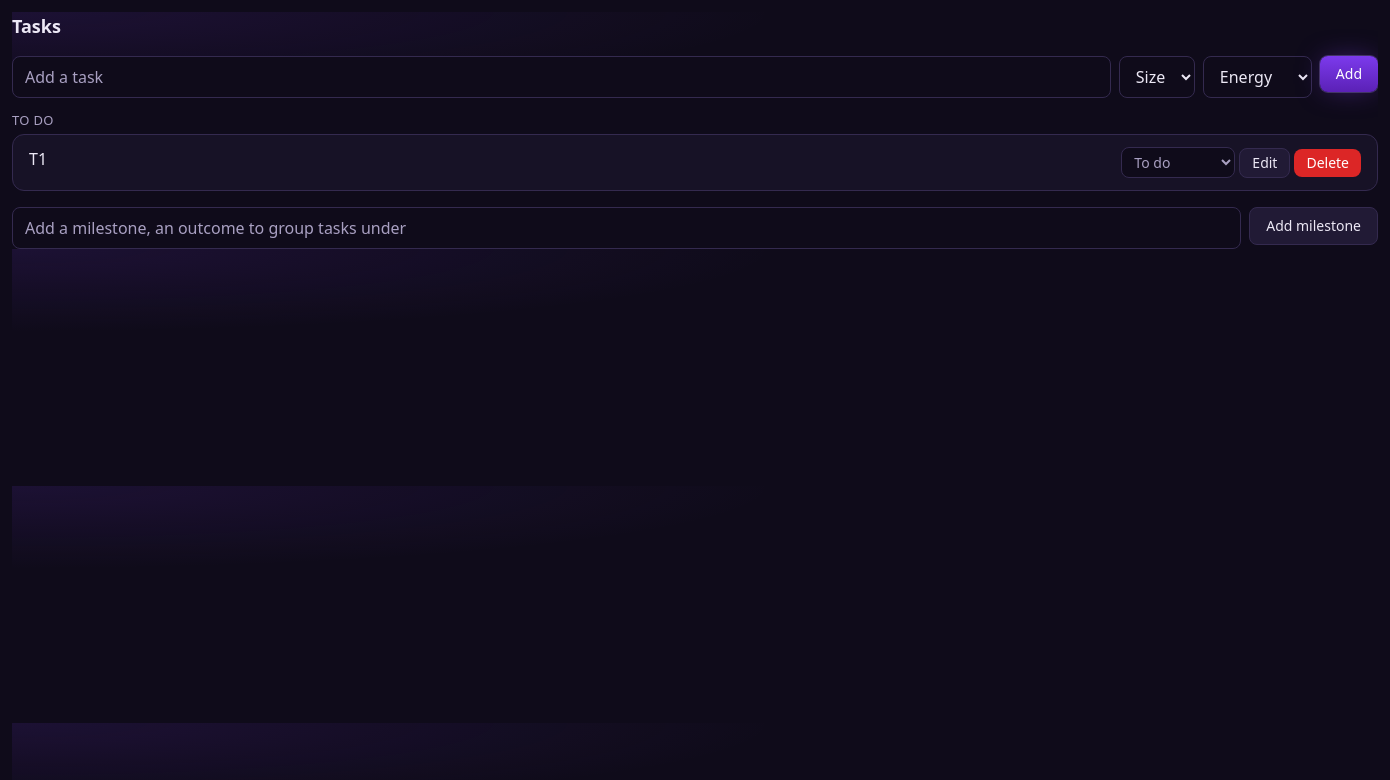
it: ProjectTasks › deletes only after confirming
Click the button "Delete".
click(1328, 162)  # box [1294,148,1361,176]
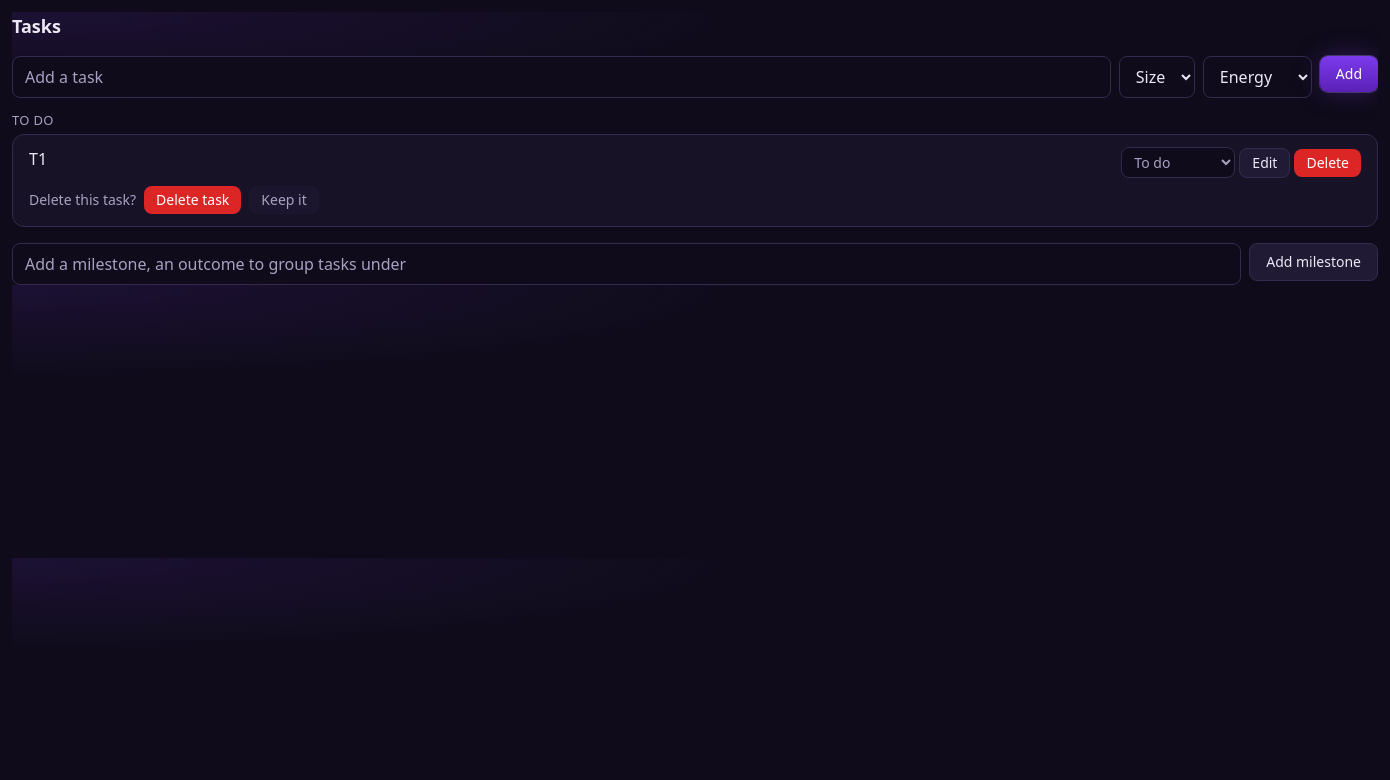
Click the button "Keep it".
click(284, 200)  # box [249,186,319,214]
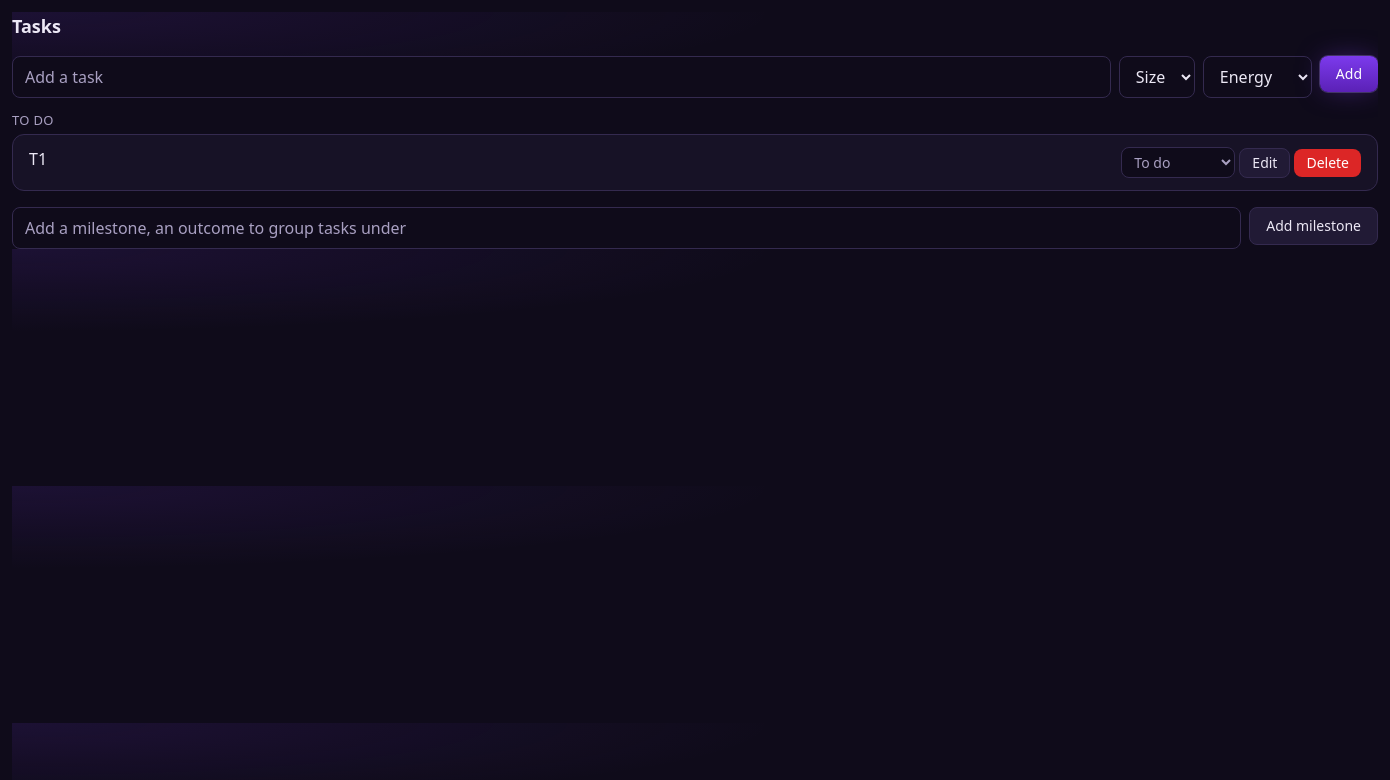
Expected: the text "Delete this task?" is gone
Click the button "Delete".
click(1328, 162)  # box [1294,148,1361,176]
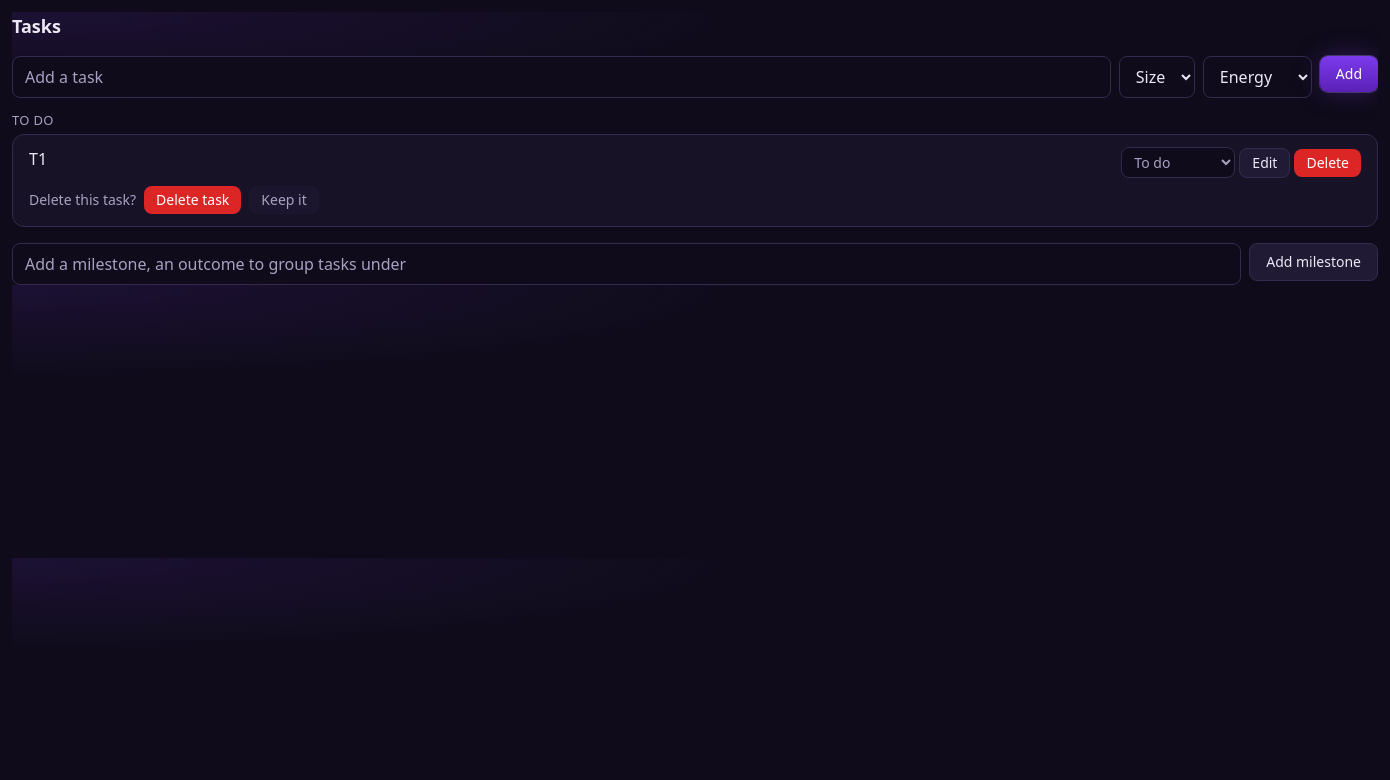
Click the button "Delete task".
click(193, 200)  # box [144,186,241,214]
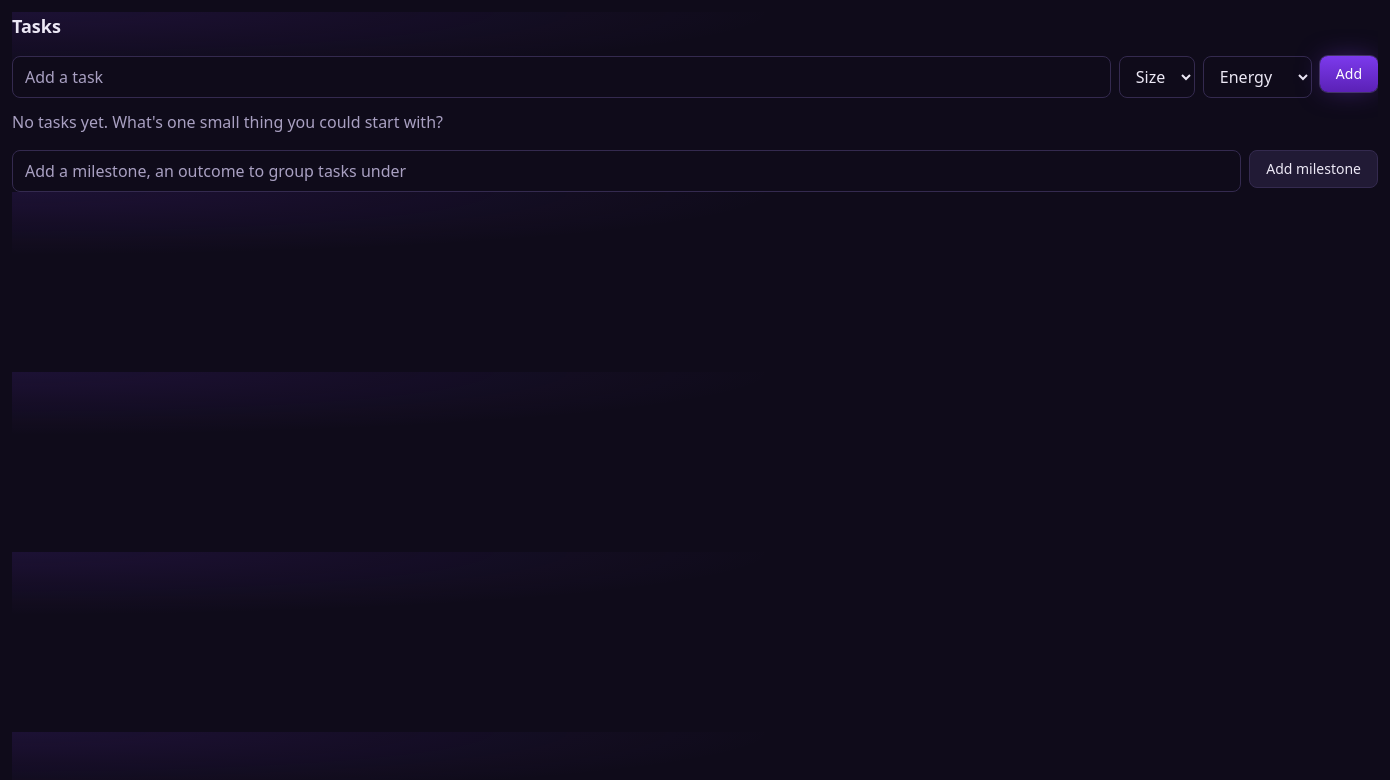
Expected: the text "No tasks yet" is shown, [12,111,443,133]
